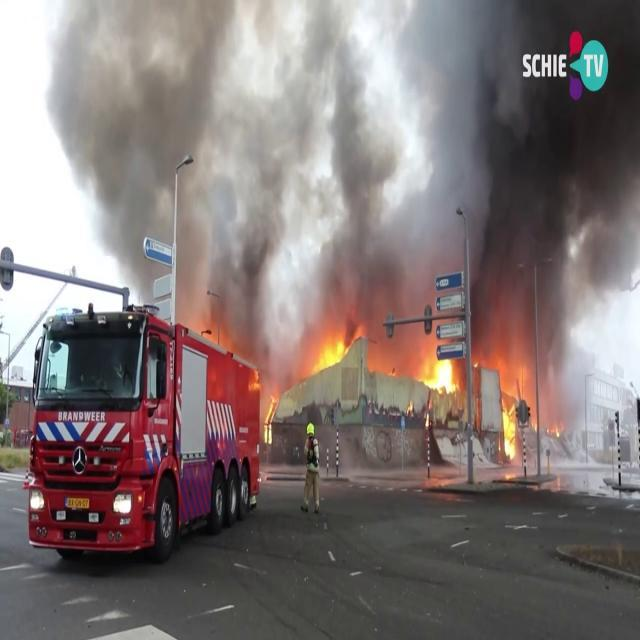Fire: (487, 335, 542, 468), (312, 318, 357, 374), (253, 374, 286, 444), (422, 351, 458, 399)
Smoke: (28, 0, 394, 305), (403, 0, 627, 316)
